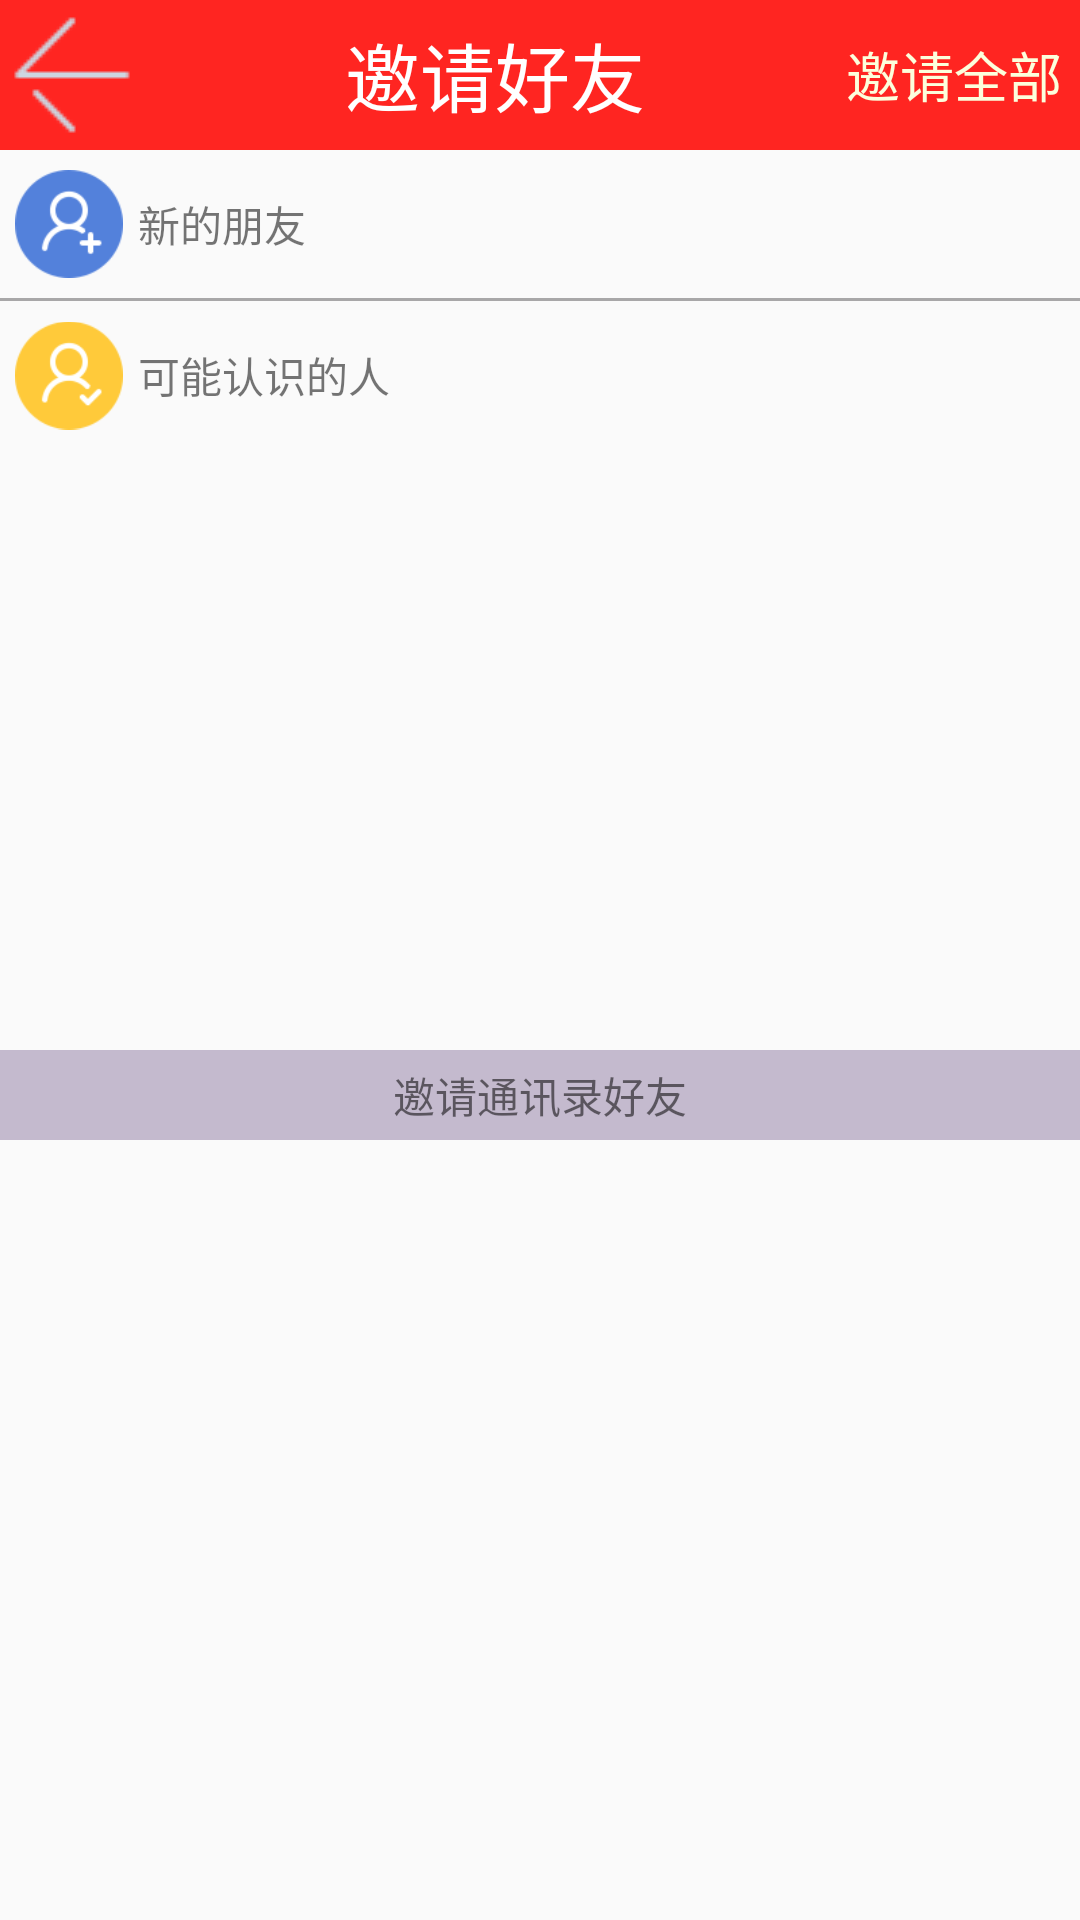

Point at icon controls on the screen. Image size 1080 x 1920, points as (x,y).
back on: (72,75)
friend: (69,224)
people knows: (69,376)
